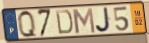5: (112, 6, 131, 33)
7: (37, 8, 54, 39)
D: (55, 9, 74, 35)
J: (94, 6, 112, 34)
M: (71, 7, 97, 35)
Q: (16, 9, 39, 39)
